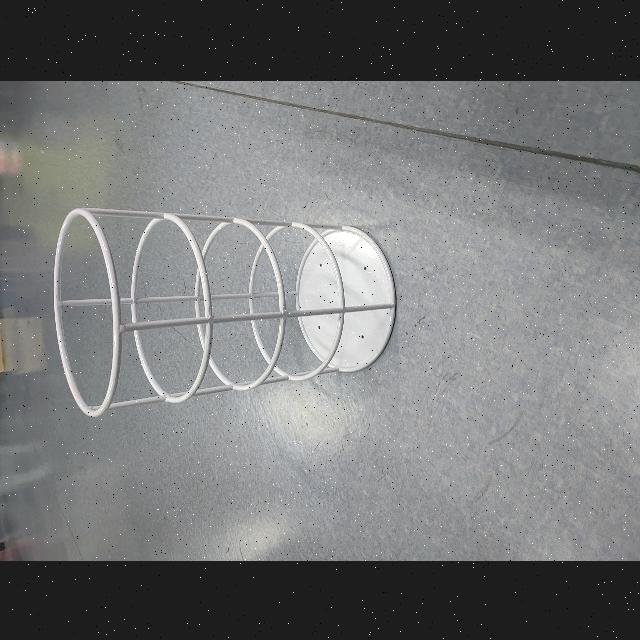S: (49, 202, 400, 420)
